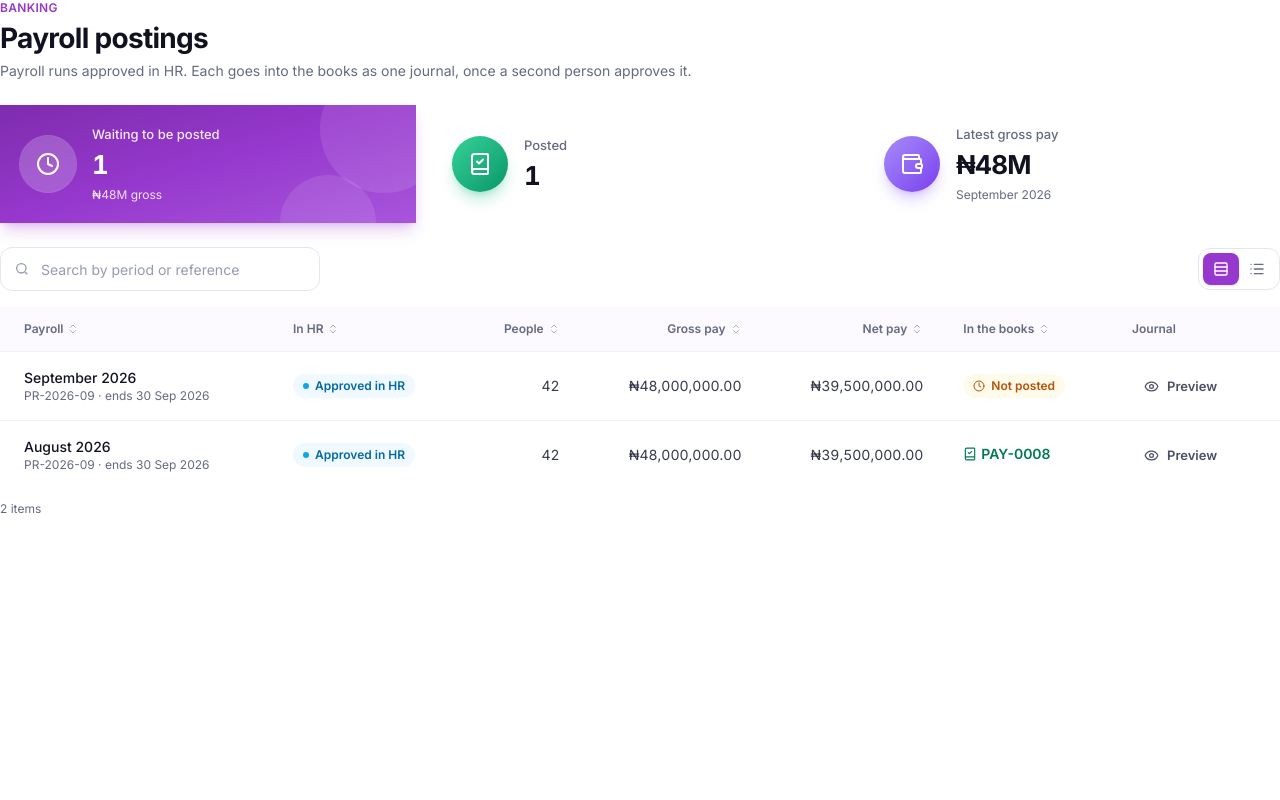
it: PayrollPostingsBoard › won't post while a payroll line has no account
The image size is (1280, 800).
Click the button with aria-label "Preview the journal for September 2026": coordinates (1181, 386) [1132,368,1229,404]
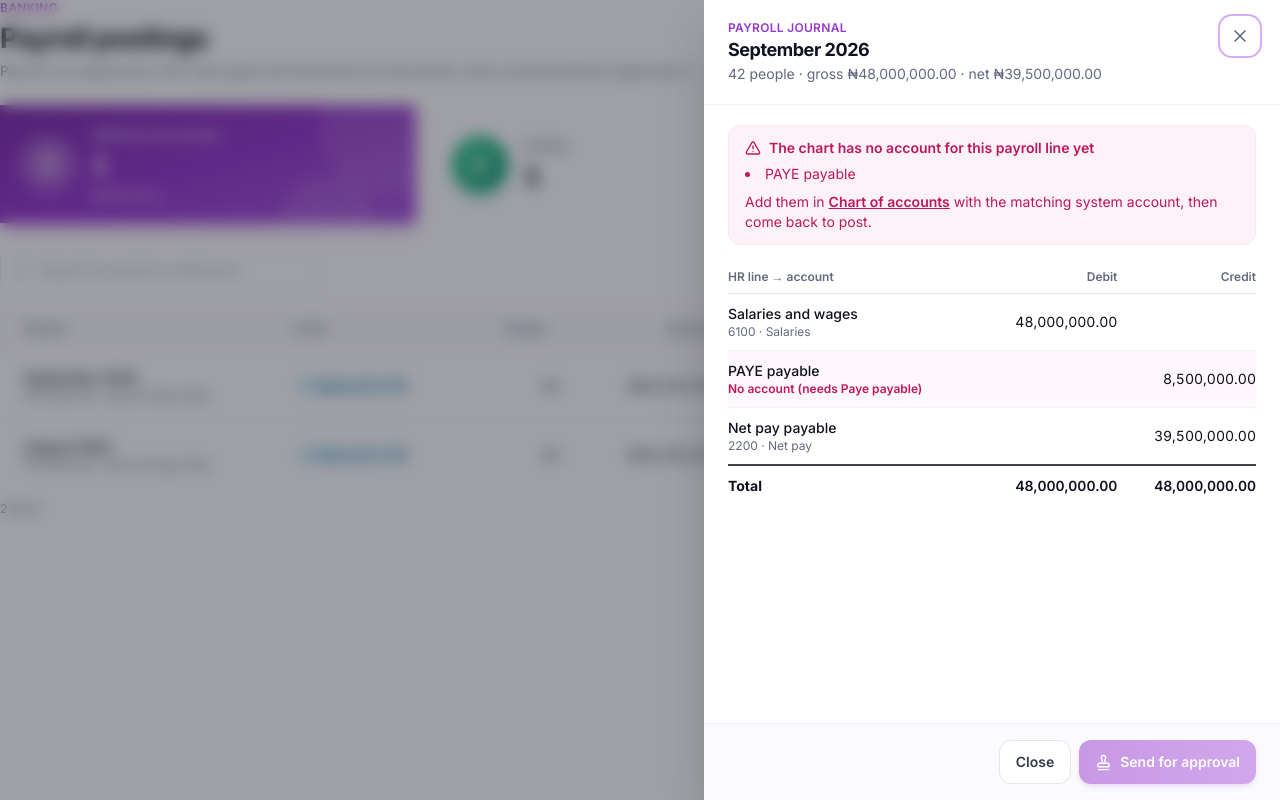
expect the message shows "PAYE payable": met, box [765,165,856,182]
expect the text "No account (needs Paye payable)" is shown: met, box [728,381,922,396]
expect the button "Send for approval" is disabled: met, box [1079,740,1256,784]
